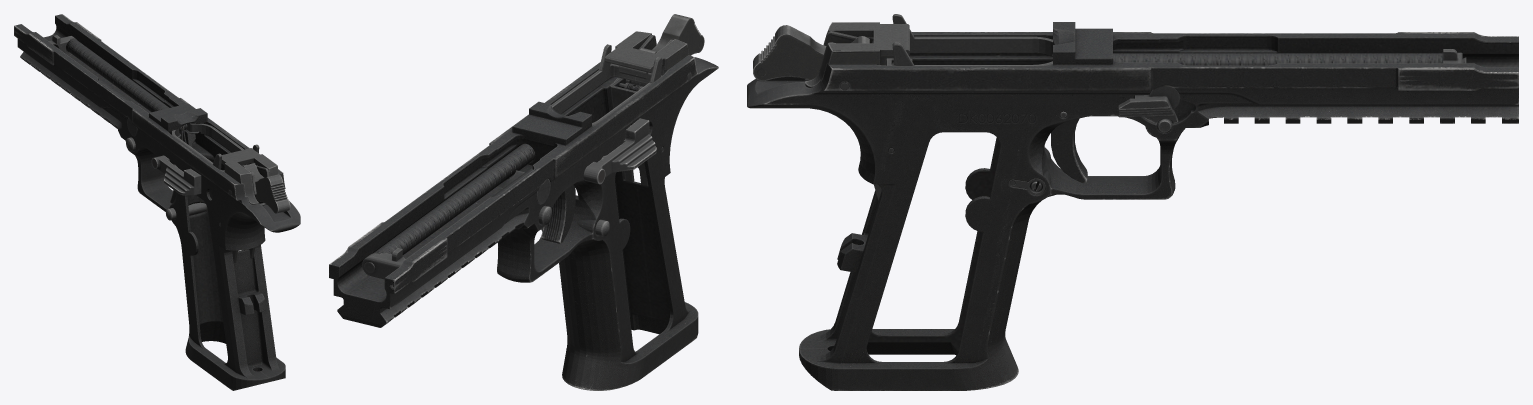
The picture shows the model from 3 angles, left to right: view 1: azimuth 30°, elevation 25°; view 2: azimuth 150°, elevation 25°; view 3: azimuth 270°, elevation 25°; orthographic projection. The views are drawn at different scales.
Parts seen in each view (by area): view 1: TW_669fa39b48fc9f8db6035a0c_PZ_Import; view 2: TW_669fa39b48fc9f8db6035a0c_PZ_Import; view 3: TW_669fa39b48fc9f8db6035a0c_PZ_Import.
Boxes of the visible parts, left/top/right/bottom form: TW_669fa39b48fc9f8db6035a0c_PZ_Import: left=14, top=14, right=300, bottom=390; TW_669fa39b48fc9f8db6035a0c_PZ_Import: left=329, top=14, right=718, bottom=390; TW_669fa39b48fc9f8db6035a0c_PZ_Import: left=747, top=14, right=1518, bottom=390.
Bounding box in the file's own units: 0.0214 × 0.1445 × 0.0706.
1 material, 1 textured.
